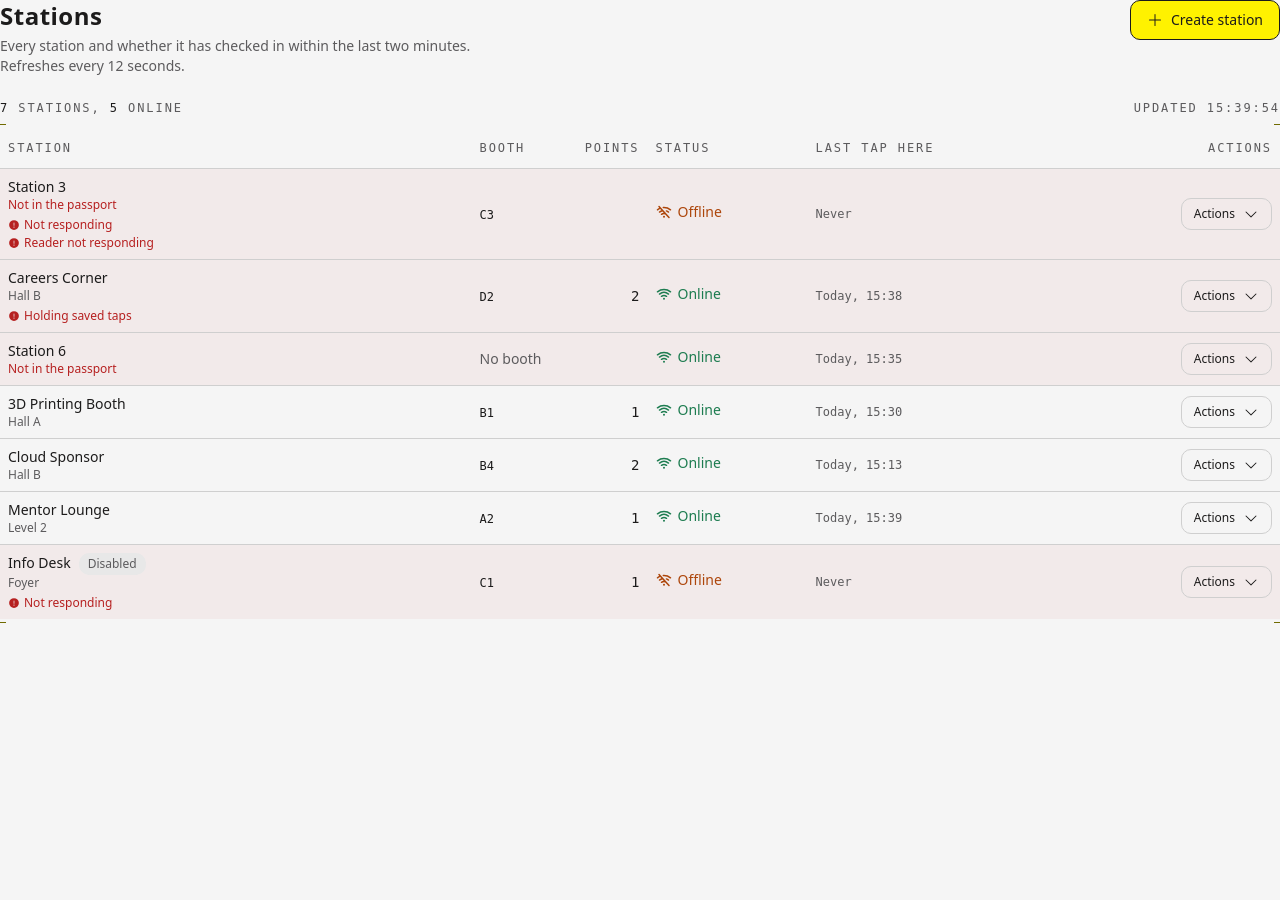
Scenario: the booth on the station board (agreement 9.12) › saves a booth and shows it on the board
Click the button "Actions" in the row of "3D Printing Booth": (1226, 412) [1181,396,1272,428]
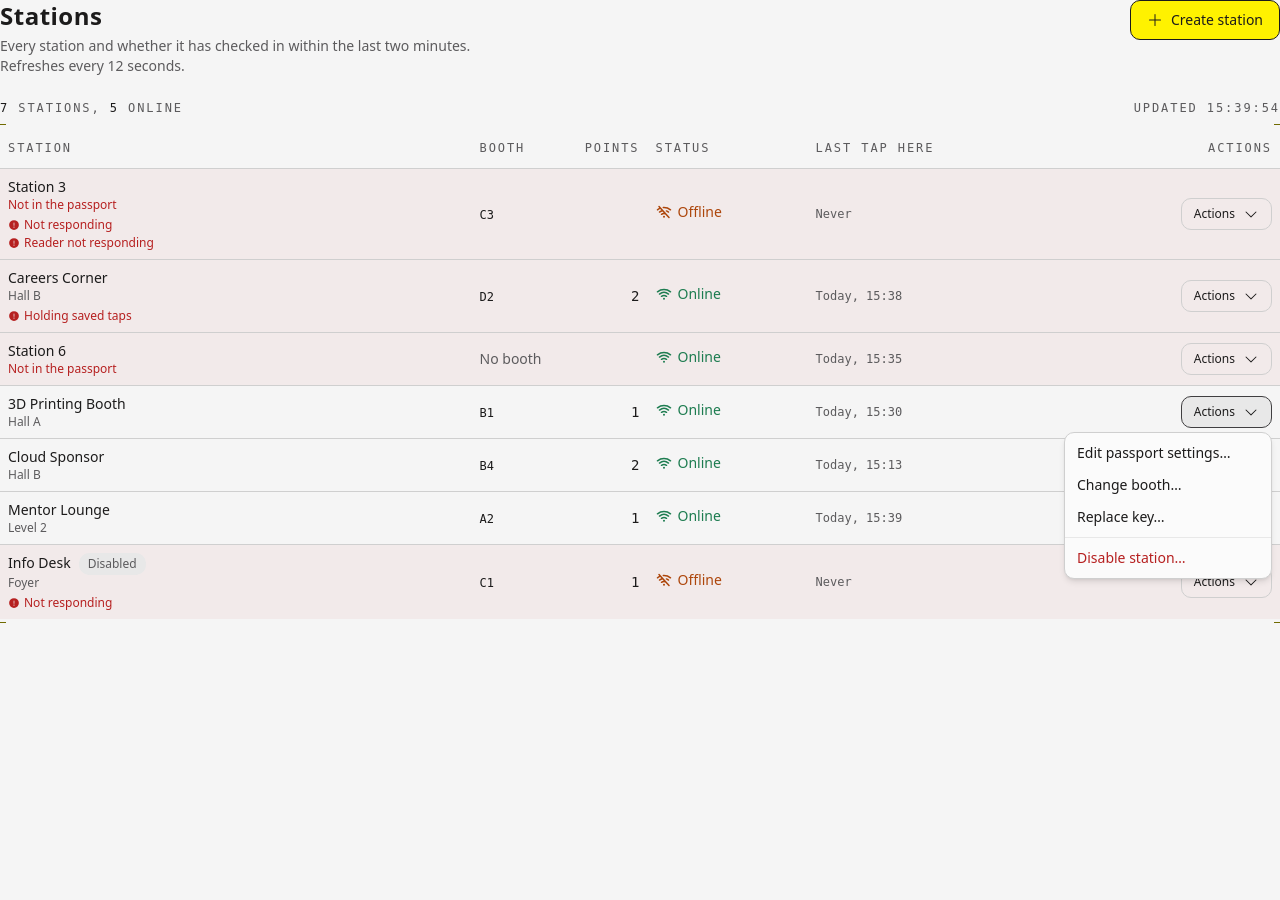
expect the menu is shown: met, box [1064,432,1272,579]
Click the menu item "Change booth…": (1129, 484) [1077,475,1182,494]
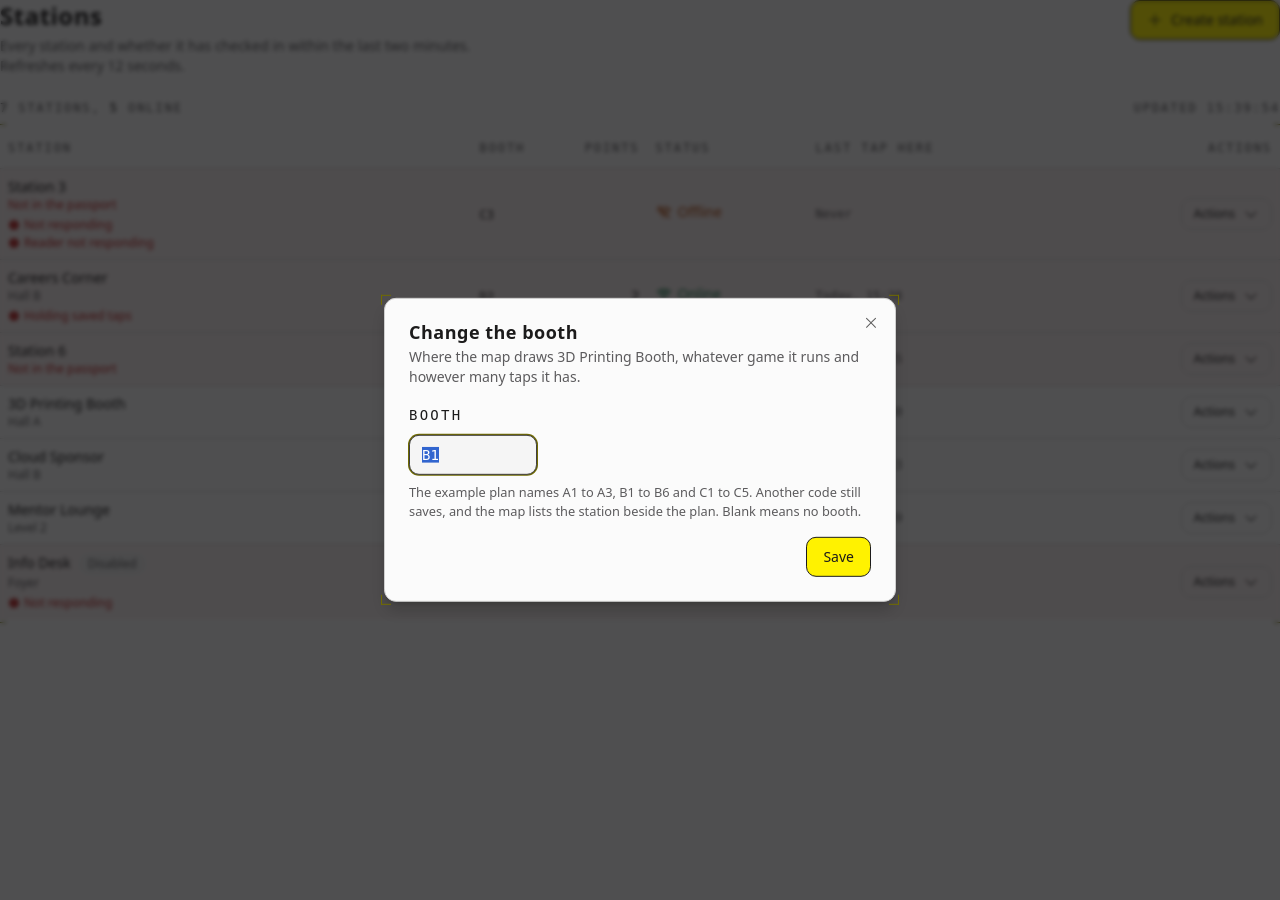
Replace the text in the field labelled "Booth" with "C4": (473, 455) [409,435,537,475]
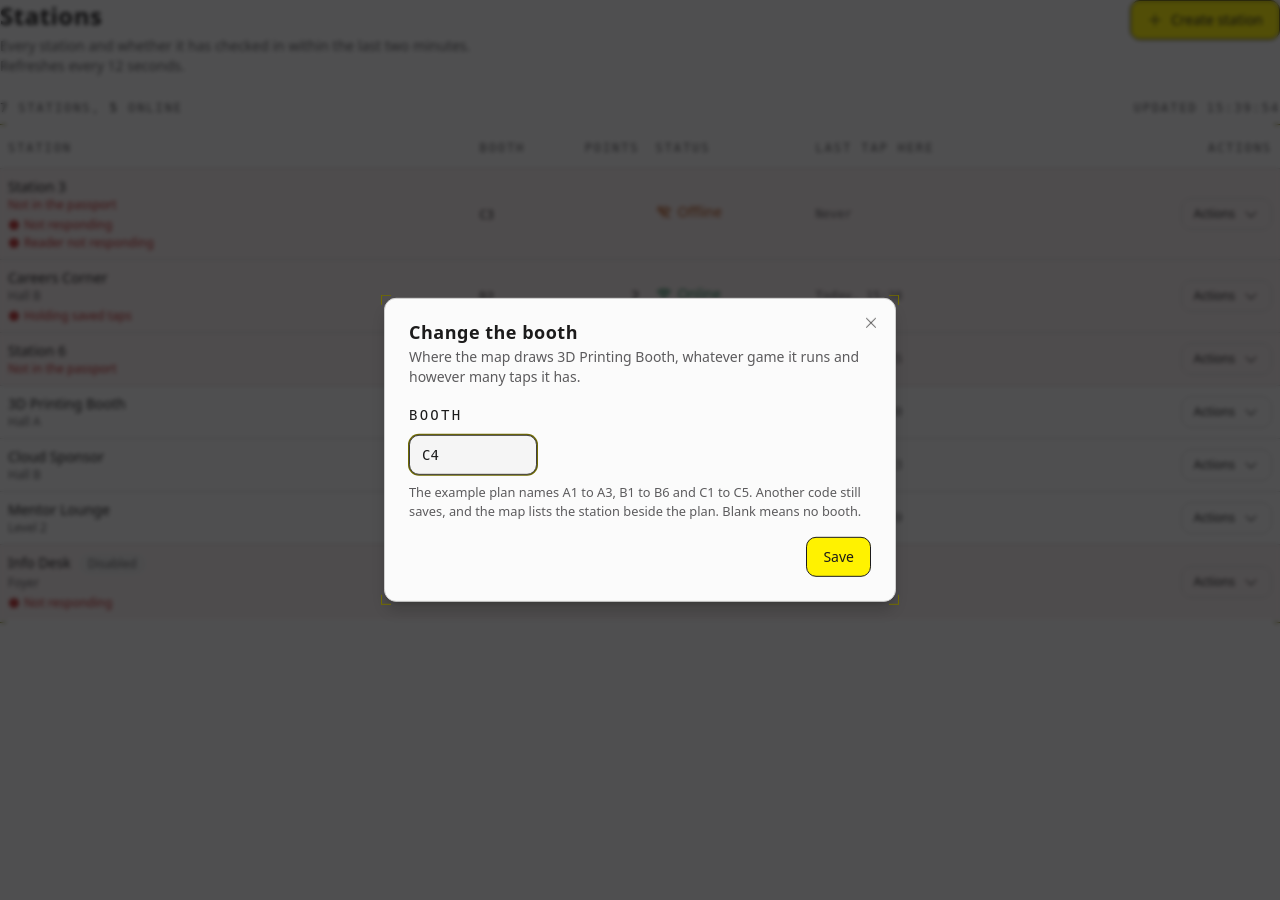
Click the button "Save": (839, 557) [806,537,871,577]
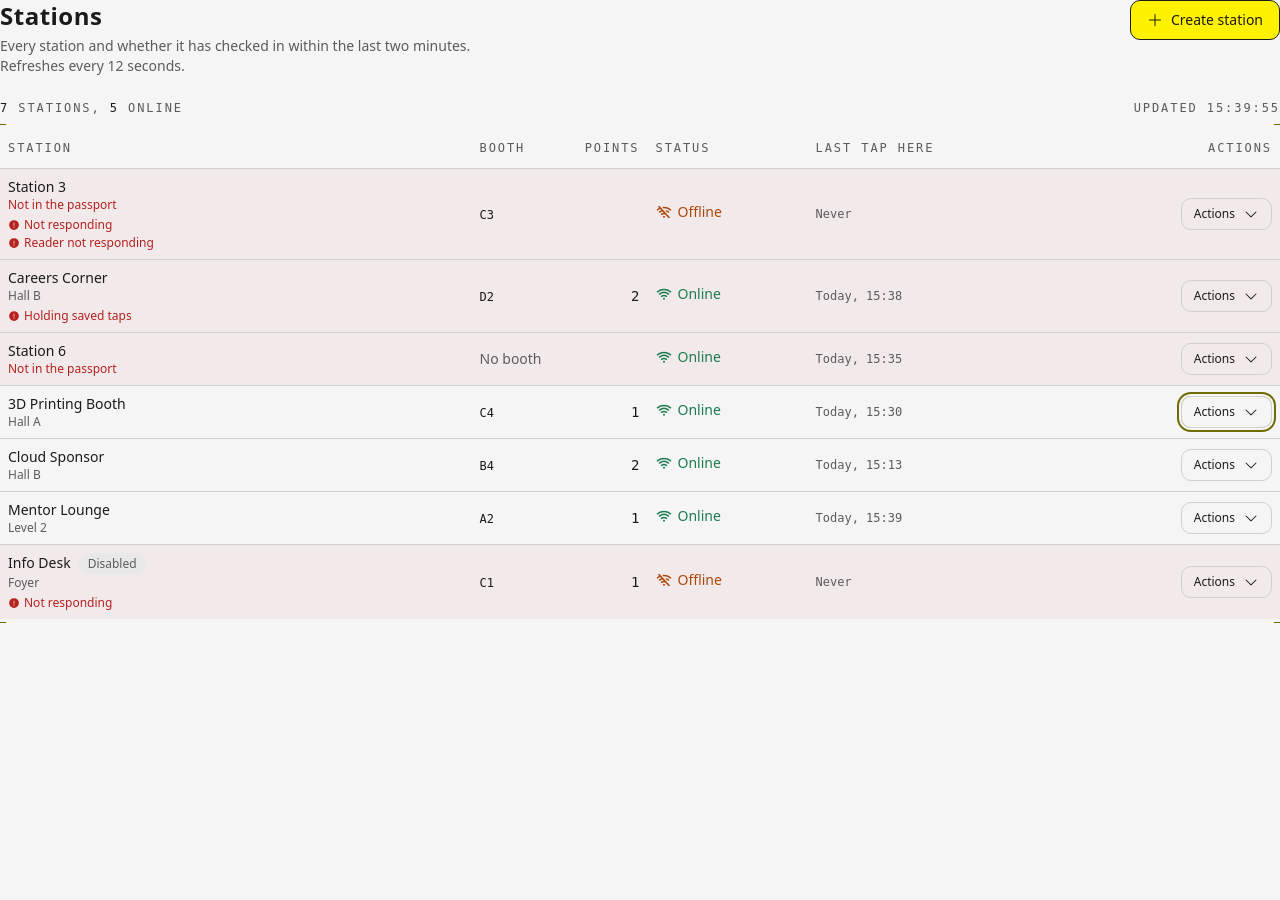
expect the text "3D Printing Booth" shows "C4": met, box [480,406,494,420]
